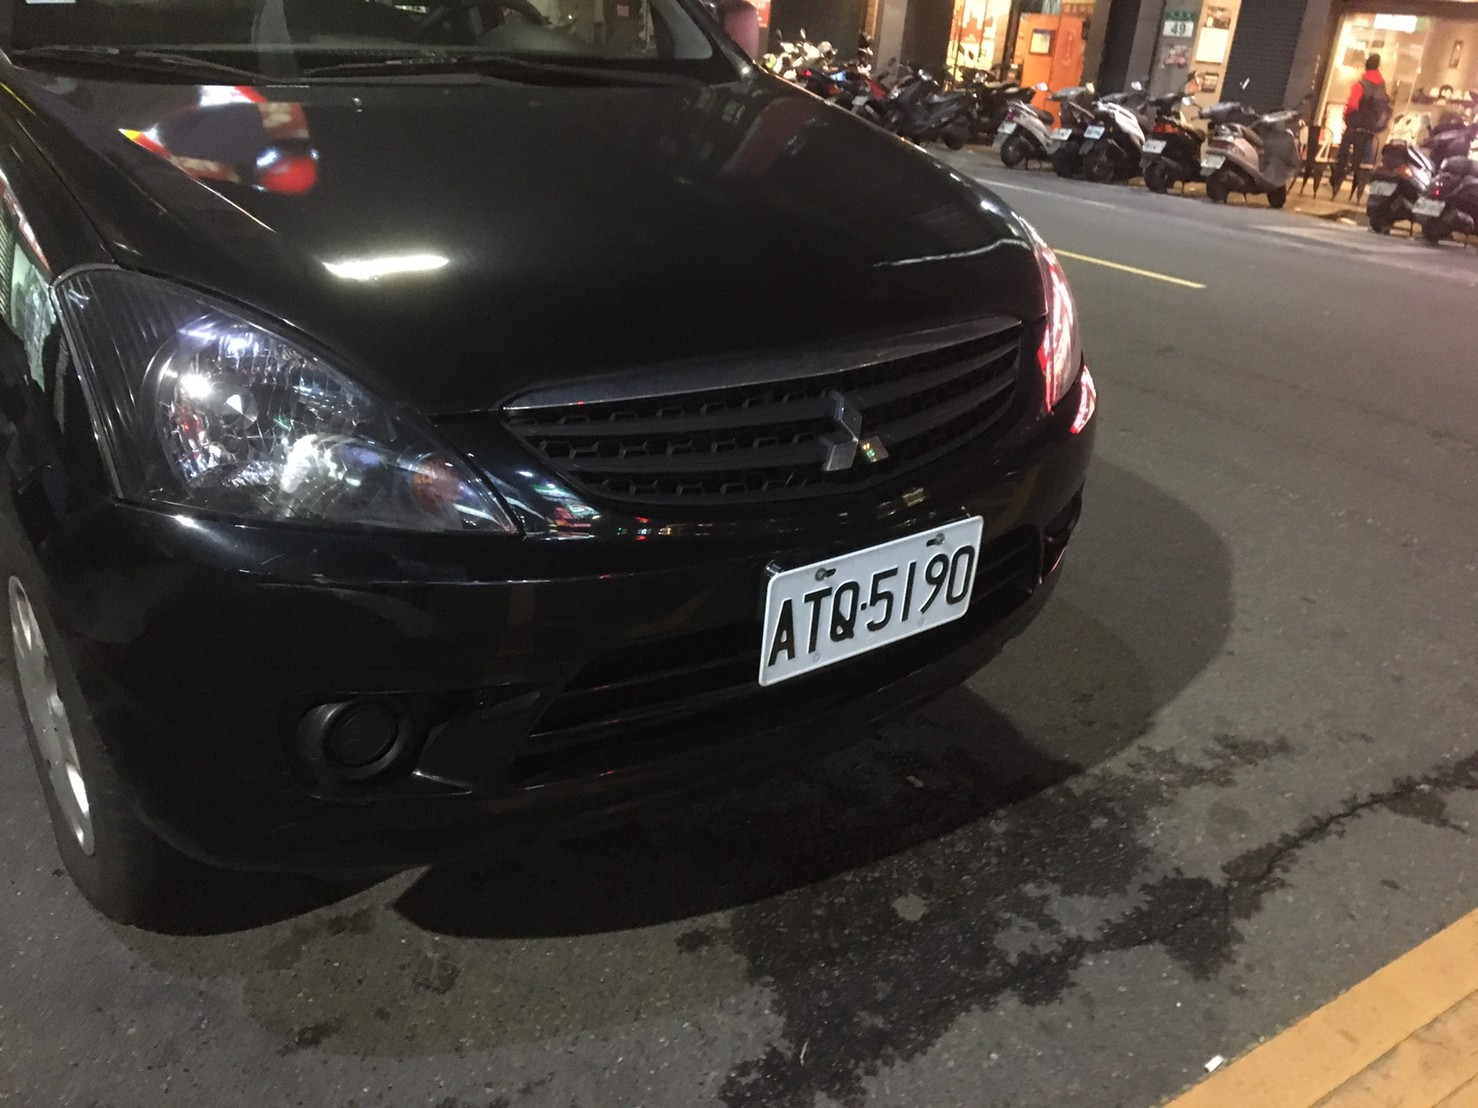LP: (755, 511, 996, 695)
